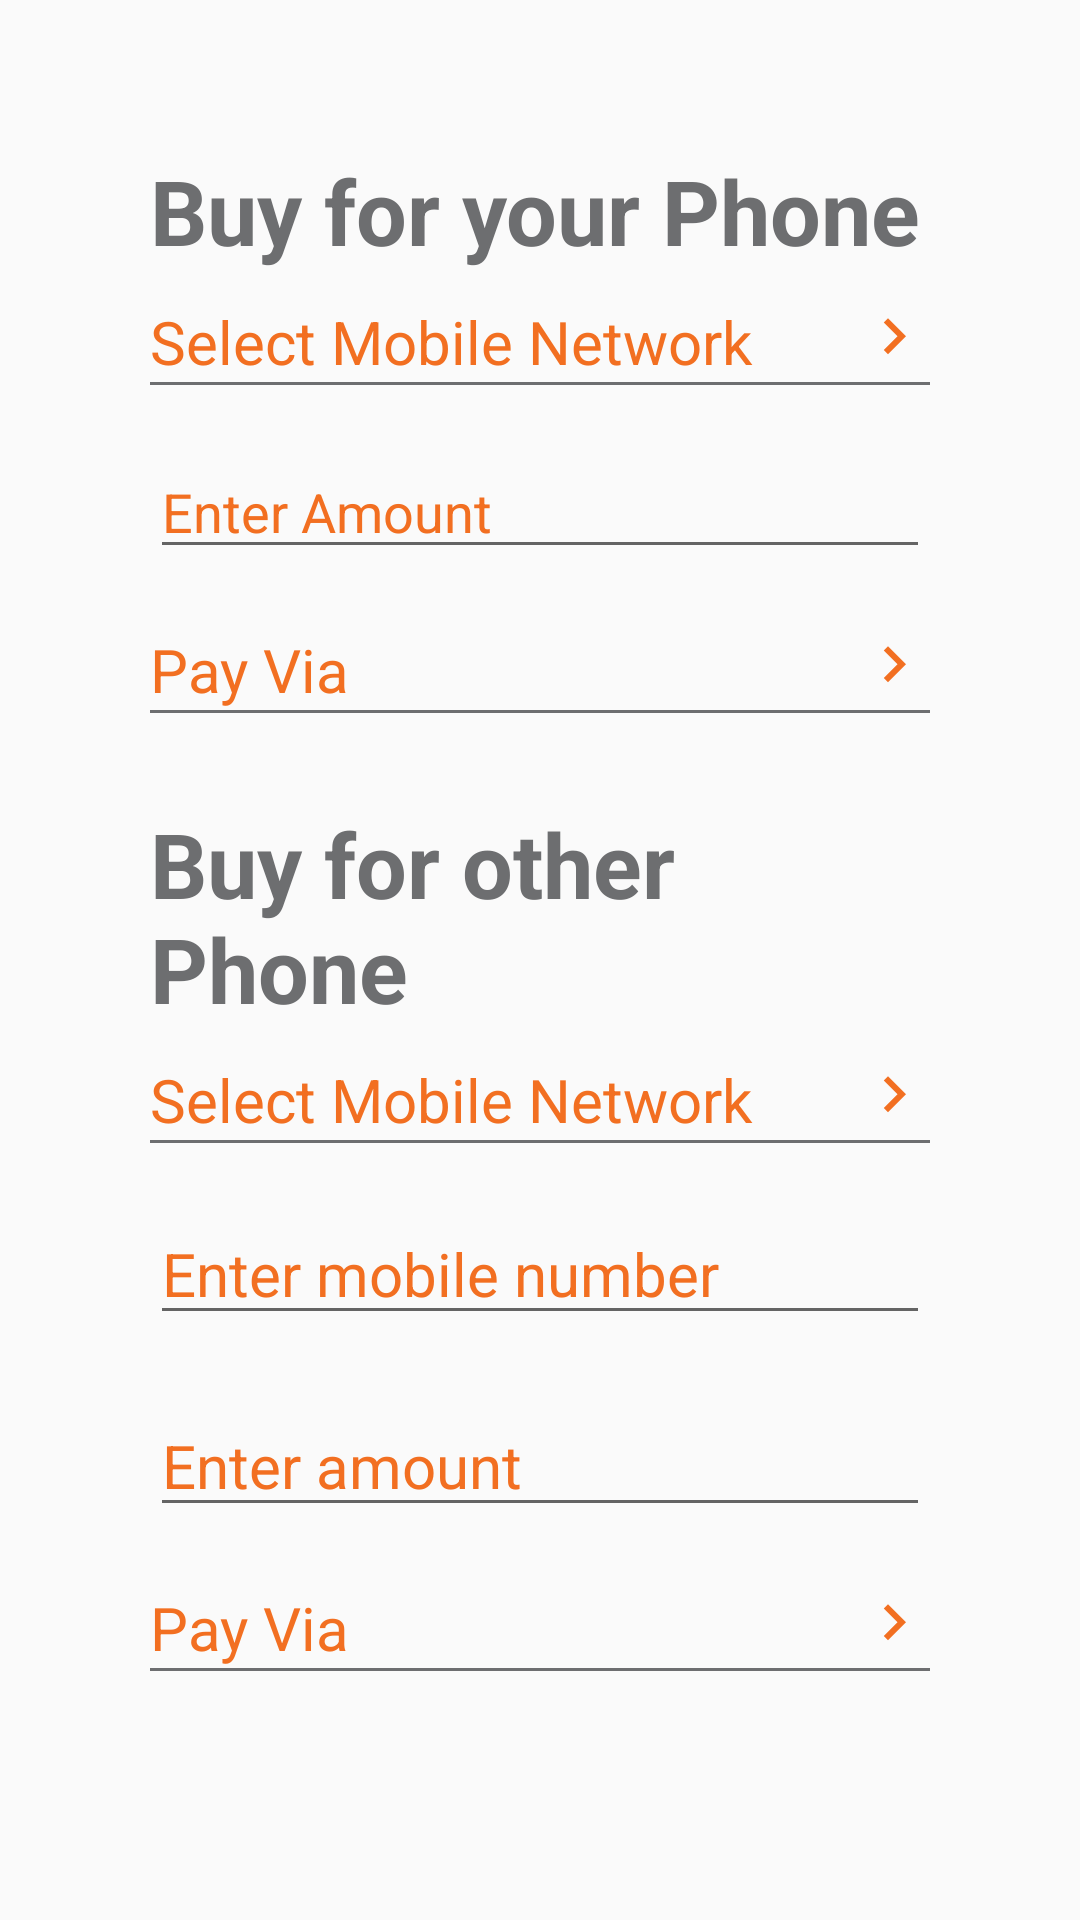

Named icons in this screenshot (1080 × 1920) and their bounding boxes, Rect(x1, y1, x2, y2):
arrow right: Rect(884, 318, 906, 354), Rect(884, 646, 906, 682), Rect(884, 1076, 906, 1112), Rect(884, 1604, 906, 1640)
